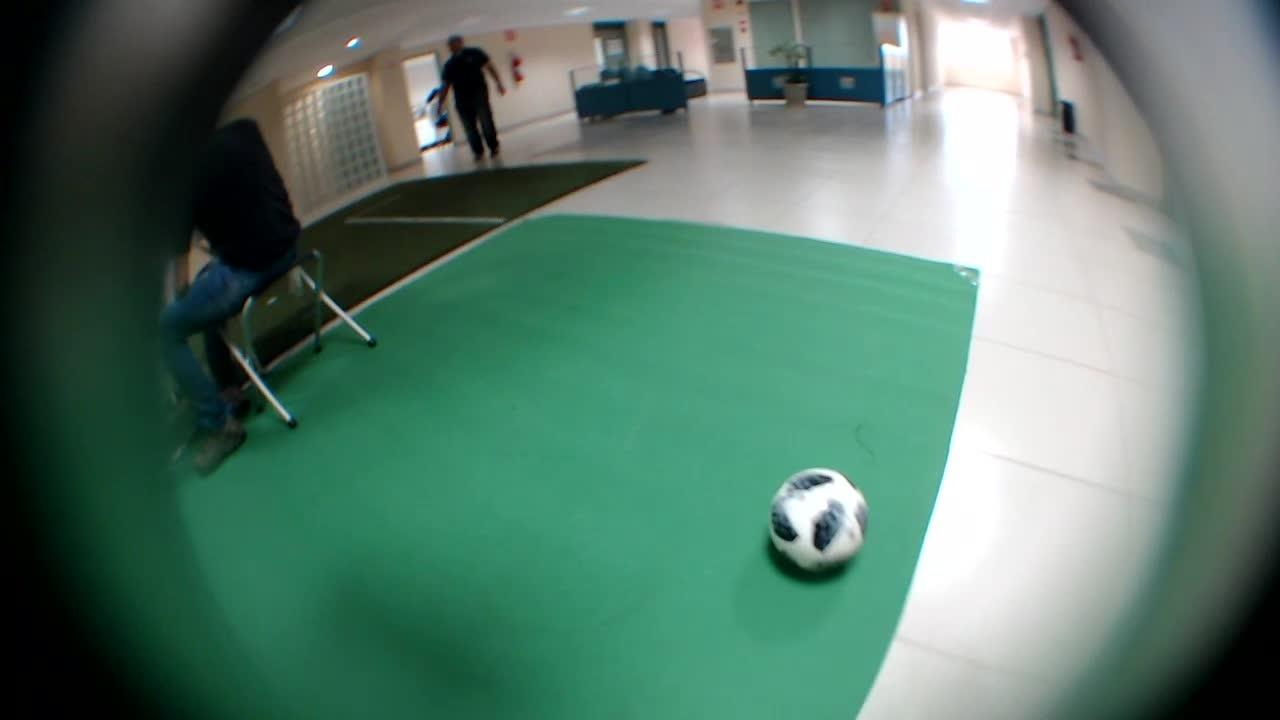ball: (747, 450, 882, 581)
